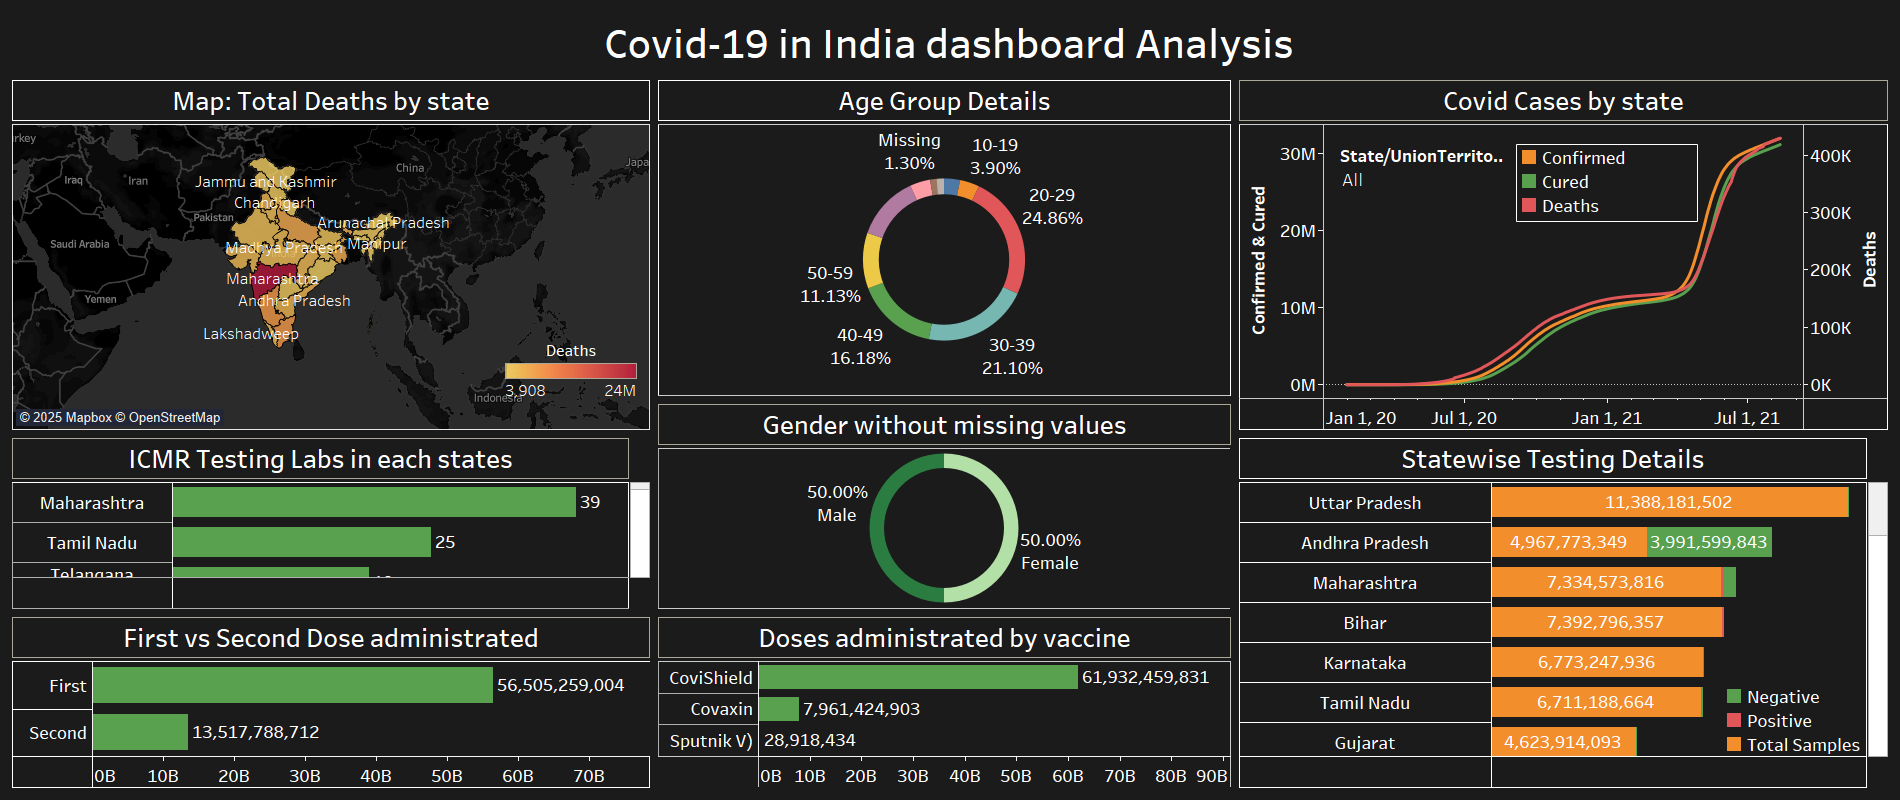

The page's visual inventory and layout, read from the dashboard file:
{"tool":"tableau","page":{"name":"Dashboard 1","canvas":[1900,800],"ordinal":0},"visuals":[{"type":"worksheet","title":"Title","mark":"Automatic","box":[8,8,1884,68]},{"type":"worksheet","title":"Map: Total Deaths by state","mark":"Automatic","box":[8,76,646,358]},{"type":"worksheet","title":"Age Group Details","mark":"Pie","rows":["Calculation_1249748946875207684","Calculation_1249748946875207684"],"box":[654,76,581,324]},{"type":"worksheet","title":"Covid Cases by state","mark":"Automatic","rows":["Deaths"],"cols":["Date"],"box":[1235,76,657,358]},{"type":"filter","title":"Covid Cases by state","param":"[federated.0m0resv0a32s0p1f9sofe18tq3qc].[none:State/UnionTerritory:nk]","box":[1340,143,168,63]},{"type":"legend","title":"Covid Cases by state","param":"[federated.0m0resv0a32s0p1f9sofe18tq3qc].[:Measure Names]","box":[1516,144,182,78]},{"type":"legend","title":"Map: Total Deaths by state","param":"[federated.0m0resv0a32s0p1f9sofe18tq3qc].[sum:Deaths:qk]","box":[501,336,140,88]},{"type":"worksheet","title":"Gender without missing values","mark":"Pie","rows":["Calculation_1249748946878185478","Calculation_1249748946878185478"],"box":[654,400,581,213]},{"type":"worksheet","title":"ICMR Testing Labs in each states","mark":"Automatic","rows":["state"],"cols":["lab"],"box":[8,434,646,179]},{"type":"worksheet","title":"Statewise Testing Details","mark":"Automatic","rows":["State"],"box":[1235,434,657,358]},{"type":"worksheet","title":"First vs Second Dose adminstrated","mark":"Automatic","box":[8,613,646,179]},{"type":"worksheet","title":"Doses administrated by vaccine","mark":"Automatic","box":[654,613,581,179]},{"type":"legend","title":"Statewise Testing Details","param":"[federated.0rfh1wg01fjzhb13642ci1h8h3kf].[:Measure Names]","box":[1722,684,143,72]}]}

Visuals, with their boxes in screenshot pixels (x1, y1, x2, y2), scaled from the page's 1900x800 canvas onto the 1900x800 screenshot:
"Title" worksheet: {"x1": 8, "y1": 8, "x2": 1892, "y2": 76}
"Map: Total Deaths by state" worksheet: {"x1": 8, "y1": 76, "x2": 654, "y2": 434}
"Age Group Details" worksheet (Pie marks): {"x1": 654, "y1": 76, "x2": 1235, "y2": 400}
"Covid Cases by state" worksheet: {"x1": 1235, "y1": 76, "x2": 1892, "y2": 434}
"Covid Cases by state" filter: {"x1": 1340, "y1": 143, "x2": 1508, "y2": 206}
"Covid Cases by state" legend: {"x1": 1516, "y1": 144, "x2": 1698, "y2": 222}
"Map: Total Deaths by state" legend: {"x1": 501, "y1": 336, "x2": 641, "y2": 424}
"Gender without missing values" worksheet (Pie marks): {"x1": 654, "y1": 400, "x2": 1235, "y2": 613}
"ICMR Testing Labs in each states" worksheet: {"x1": 8, "y1": 434, "x2": 654, "y2": 613}
"Statewise Testing Details" worksheet: {"x1": 1235, "y1": 434, "x2": 1892, "y2": 792}
"First vs Second Dose adminstrated" worksheet: {"x1": 8, "y1": 613, "x2": 654, "y2": 792}
"Doses administrated by vaccine" worksheet: {"x1": 654, "y1": 613, "x2": 1235, "y2": 792}
"Statewise Testing Details" legend: {"x1": 1722, "y1": 684, "x2": 1865, "y2": 756}
